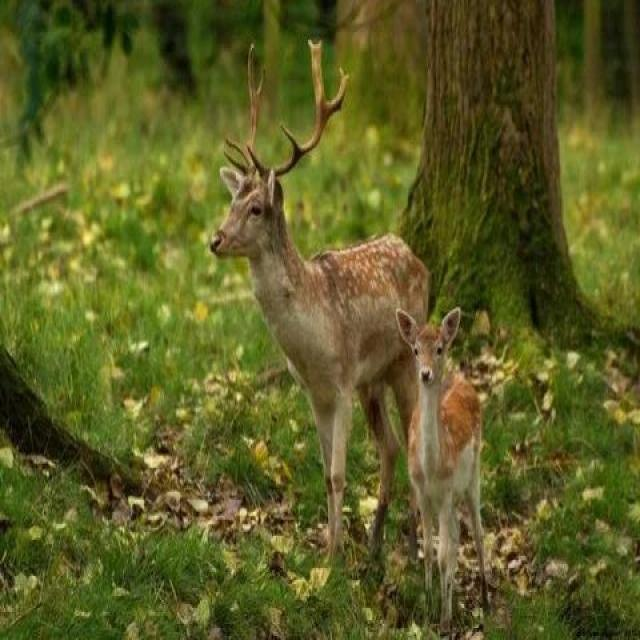deer: (220, 126, 430, 445), (366, 273, 518, 558)
